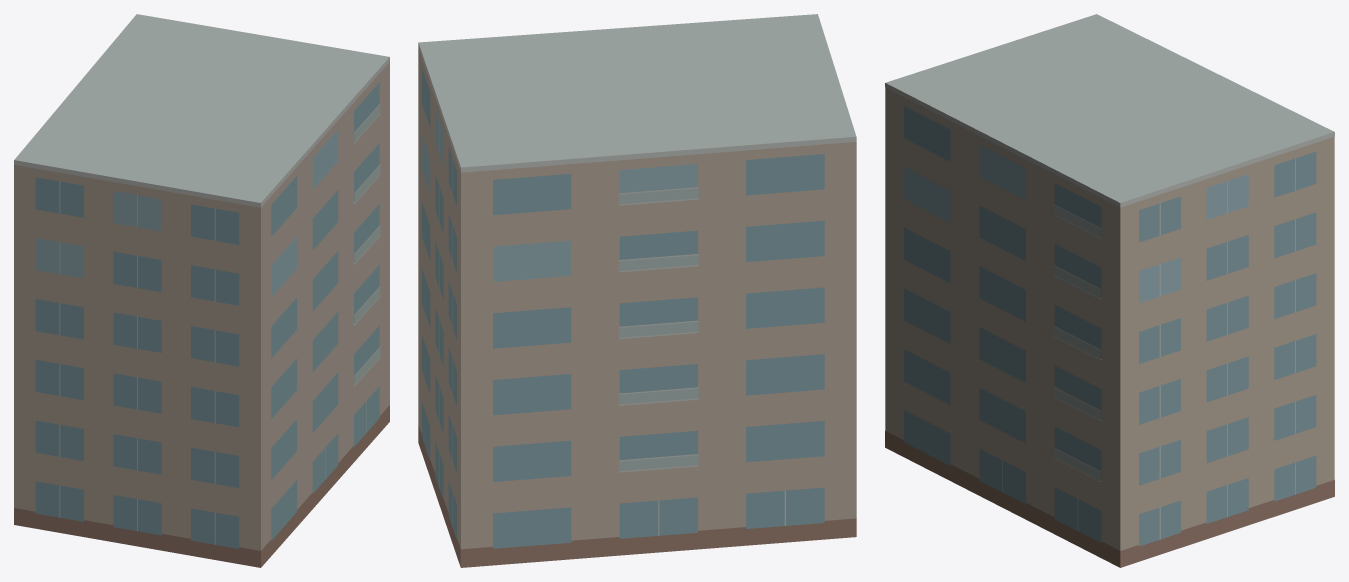
File: survey-upis-32746234.glb
3 views of the same model, side by side, from view 1: azimuth 30°, elevation 25°; view 2: azimuth 150°, elevation 25°; view 3: azimuth 270°, elevation 25° (orthographic). The views are drawn at different scales.
Visible parts, largest first — view 1: survey-upis-32746234.tmp; view 2: survey-upis-32746234.tmp; view 3: survey-upis-32746234.tmp.
Boxes of the visible parts, bbox=[...] form: survey-upis-32746234.tmp: bbox=[14, 14, 389, 567]; survey-upis-32746234.tmp: bbox=[418, 14, 856, 567]; survey-upis-32746234.tmp: bbox=[885, 14, 1334, 567].
Bounding box in the file's own units: 21.13 × 19 × 21.23.
